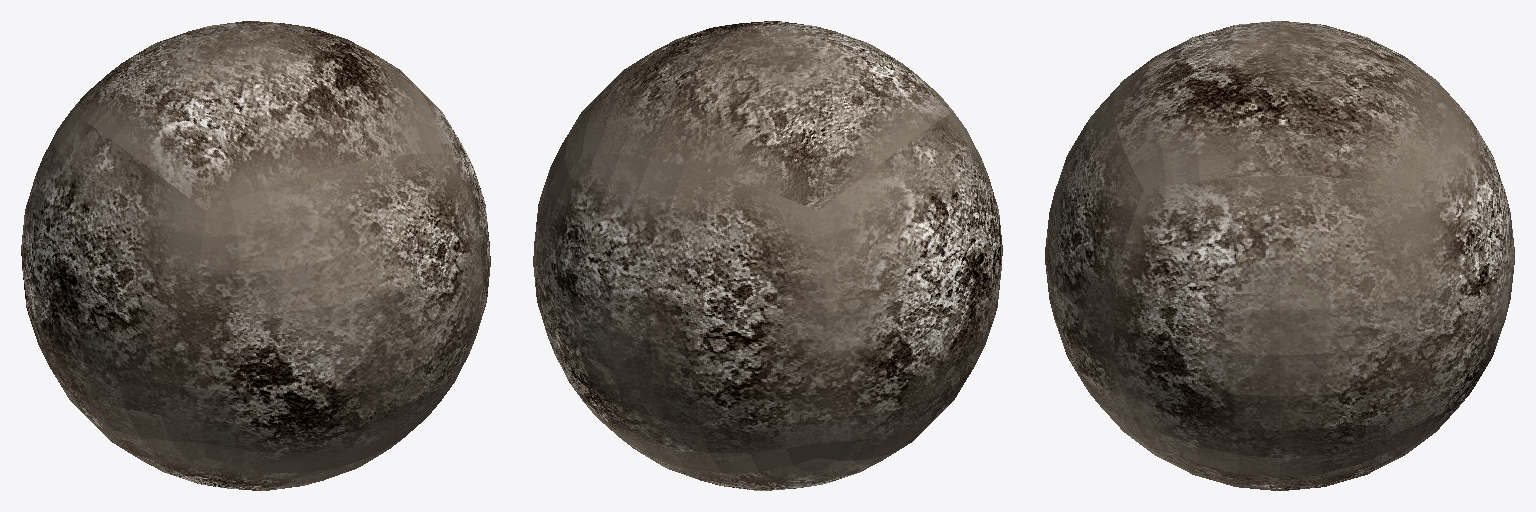
3 renders of one model, left to right at view 1: azimuth 30°, elevation 25°; view 2: azimuth 150°, elevation 25°; view 3: azimuth 270°, elevation 25°, orthographic.
Visible parts, largest first — view 1: sphere; view 2: sphere; view 3: sphere.
Part boxes in pixels (bbox=[...]): sphere: bbox=[21, 21, 490, 490]; sphere: bbox=[533, 21, 1002, 490]; sphere: bbox=[1045, 21, 1514, 490].
Bounding box in the file's own units: 8.49 × 8.49 × 8.49.
Materials: 1 (1 with a texture image).